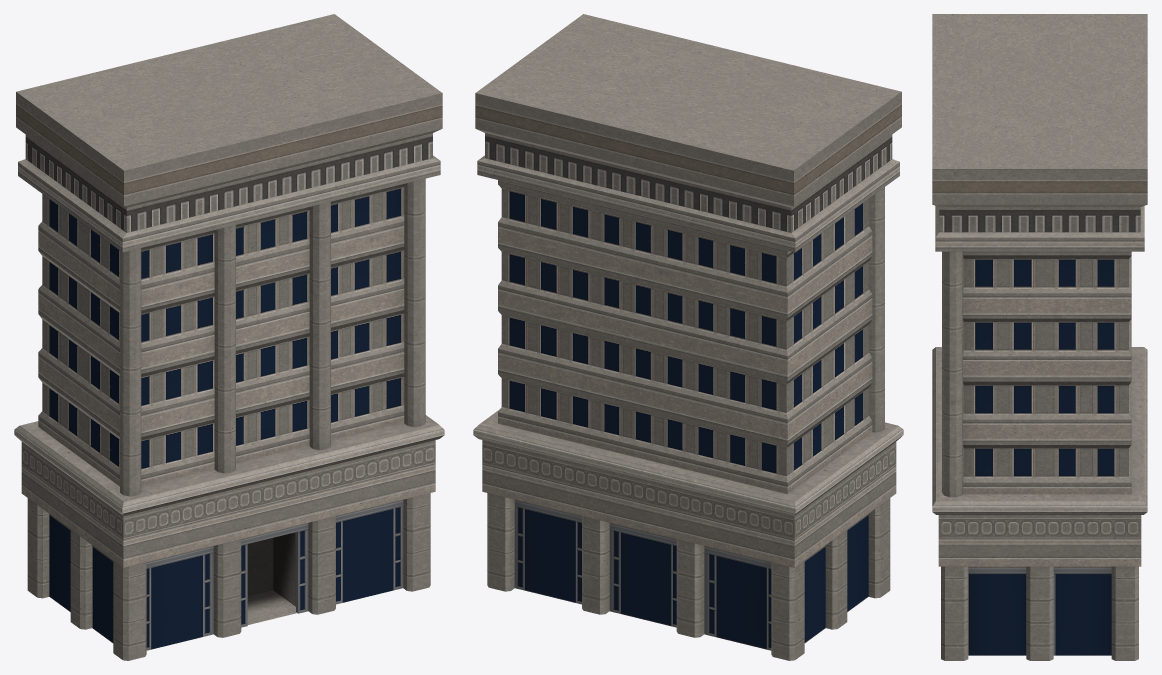
File: sb_obj_ModernCity006_buil_c1.fbx
The picture shows the model from 3 angles, left to right: view 1: azimuth 30°, elevation 25°; view 2: azimuth 150°, elevation 25°; view 3: azimuth 270°, elevation 25°; orthographic projection.
Parts seen in each view (by area): view 1: sb_obj_ModernCity006_buil_c1; view 2: sb_obj_ModernCity006_buil_c1; view 3: sb_obj_ModernCity006_buil_c1.
Boxes of the visible parts, x1,y1,x2,y2 form: sb_obj_ModernCity006_buil_c1: (14, 14, 444, 660); sb_obj_ModernCity006_buil_c1: (473, 14, 903, 660); sb_obj_ModernCity006_buil_c1: (932, 14, 1147, 660).
Size of the model in its own units: 6.81 by 10 by 3.95.
